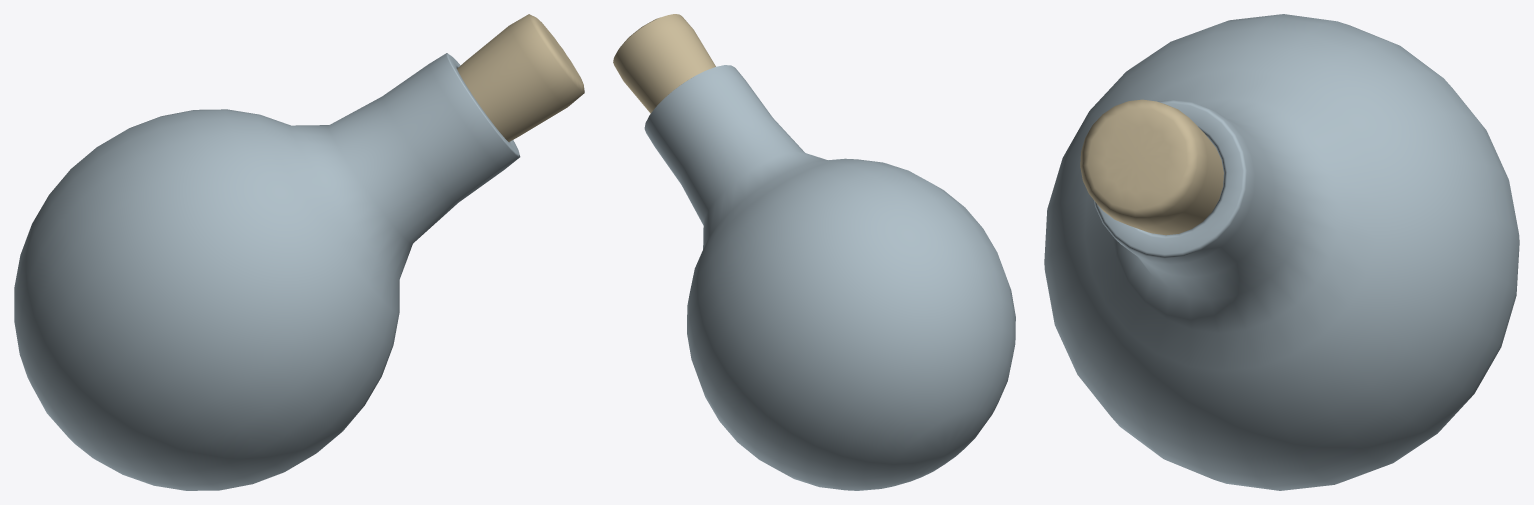
3 renders of one model, left to right at view 1: azimuth 30°, elevation 25°; view 2: azimuth 150°, elevation 25°; view 3: azimuth 270°, elevation 25°, orthographic. The views are drawn at different scales.
Parts seen in each view (by area): view 1: B; view 2: B; view 3: B.
Boxes of the visible parts, box(x1,y1,x2,y2) form: B: box(14, 14, 584, 490); B: box(613, 14, 1015, 490); B: box(1044, 14, 1519, 490).
Size of the model in its own units: 1.3 by 1.09 by 0.8783.
